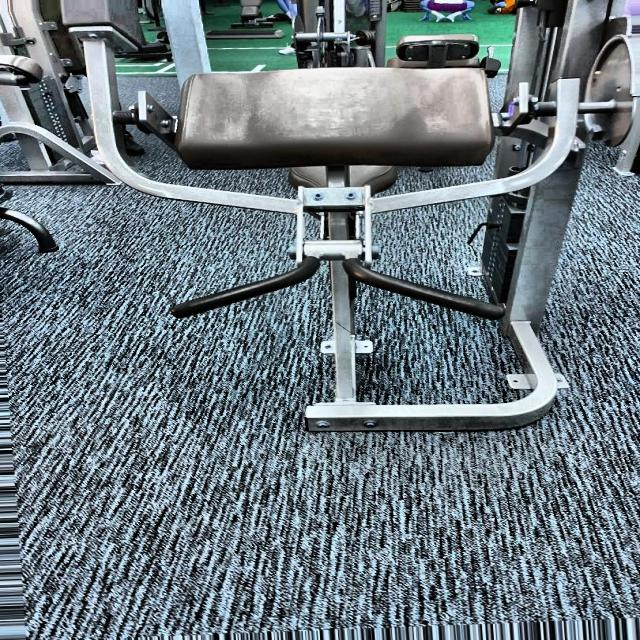bicep_curl_machine: (84, 62, 610, 441)
